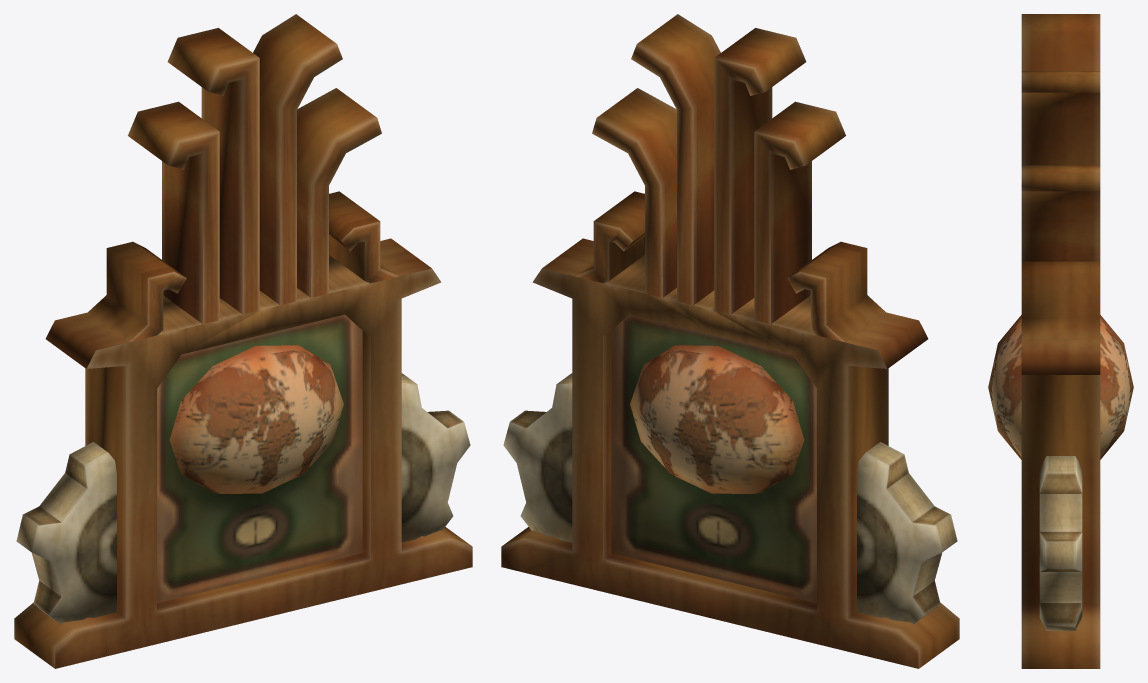
Rendered from a_SWImap05 _01.glb.
The picture shows the model from 3 angles, left to right: view 1: azimuth 30°, elevation 25°; view 2: azimuth 150°, elevation 25°; view 3: azimuth 270°, elevation 25°; orthographic projection. The views are drawn at different scales.
Visible parts, largest first — view 1: a_SWImap05 _01; view 2: a_SWImap05 _01; view 3: a_SWImap05 _01.
Boxes of the visible parts, x1,y1,x2,y2 form: a_SWImap05 _01: (14, 14, 472, 668); a_SWImap05 _01: (501, 14, 959, 668); a_SWImap05 _01: (988, 14, 1133, 668).
Size of the model in its own units: 1.36 by 1.66 by 0.4085.
1 material, 1 textured.
